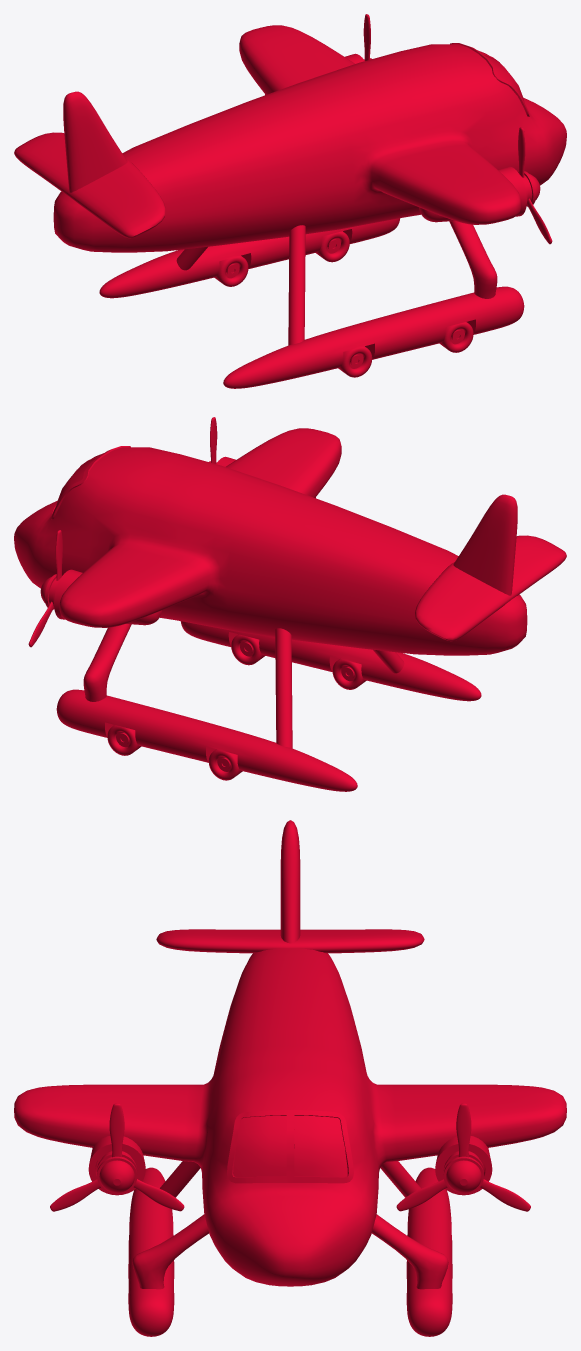
The model's file is Avion_Merged_Pour_Animation.fbx.
3 views of the same model, one above another, from view 1: azimuth 30°, elevation 25°; view 2: azimuth 150°, elevation 25°; view 3: azimuth 270°, elevation 25° (orthographic). The views are drawn at different scales.
Visible parts, largest first — view 1: Cube.002, Cylinder.002, Helice_01, Roue_02, Roue_04, Roue_03, Roue_01; view 2: Cube.002, Cylinder.002, Helice_02, Roue_04, Roue_02, Roue_01, Roue_03; view 3: Cube.002, Vitre, Helice_01, Helice_02, Vitre_Contour, Cylinder.002.
Part boxes in pixels (x1,y1,x2,y2): Cube.002: (14,25,566,388); Cylinder.002: (176,225,305,345); Helice_01: (518,127,552,244); Roue_02: (214,255,248,286); Roue_04: (338,346,372,377); Roue_03: (439,322,473,352); Roue_01: (315,231,349,262); Cube.002: (14,428,566,791); Cylinder.002: (275,628,404,748); Helice_02: (28,530,62,647); Roue_04: (332,658,366,689); Roue_02: (208,749,242,780); Roue_01: (107,725,141,755); Roue_03: (231,634,265,665); Cube.002: (14,820,566,1336); Vitre: (233,1115,347,1176); Helice_01: (50,1103,184,1211); Helice_02: (396,1103,530,1211); Vitre_Contour: (227,1110,353,1183); Cylinder.002: (160,1161,420,1197).
Size of the model in its own units: 514 by 607 by 329.
